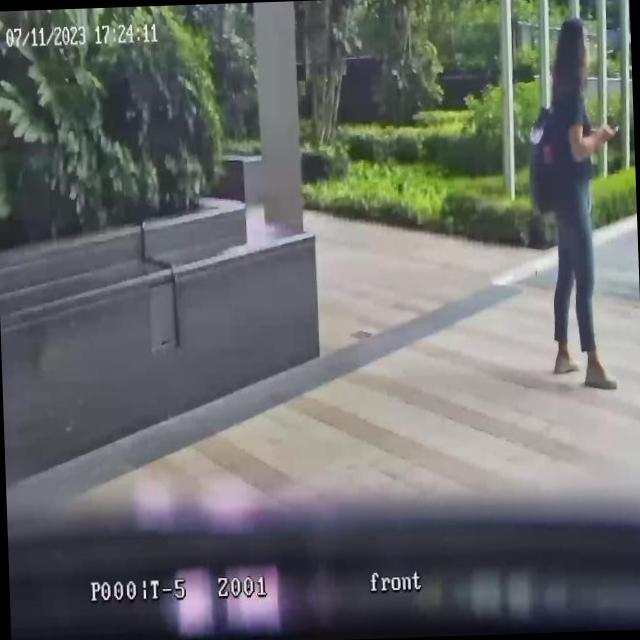person: (538, 13, 628, 392)
